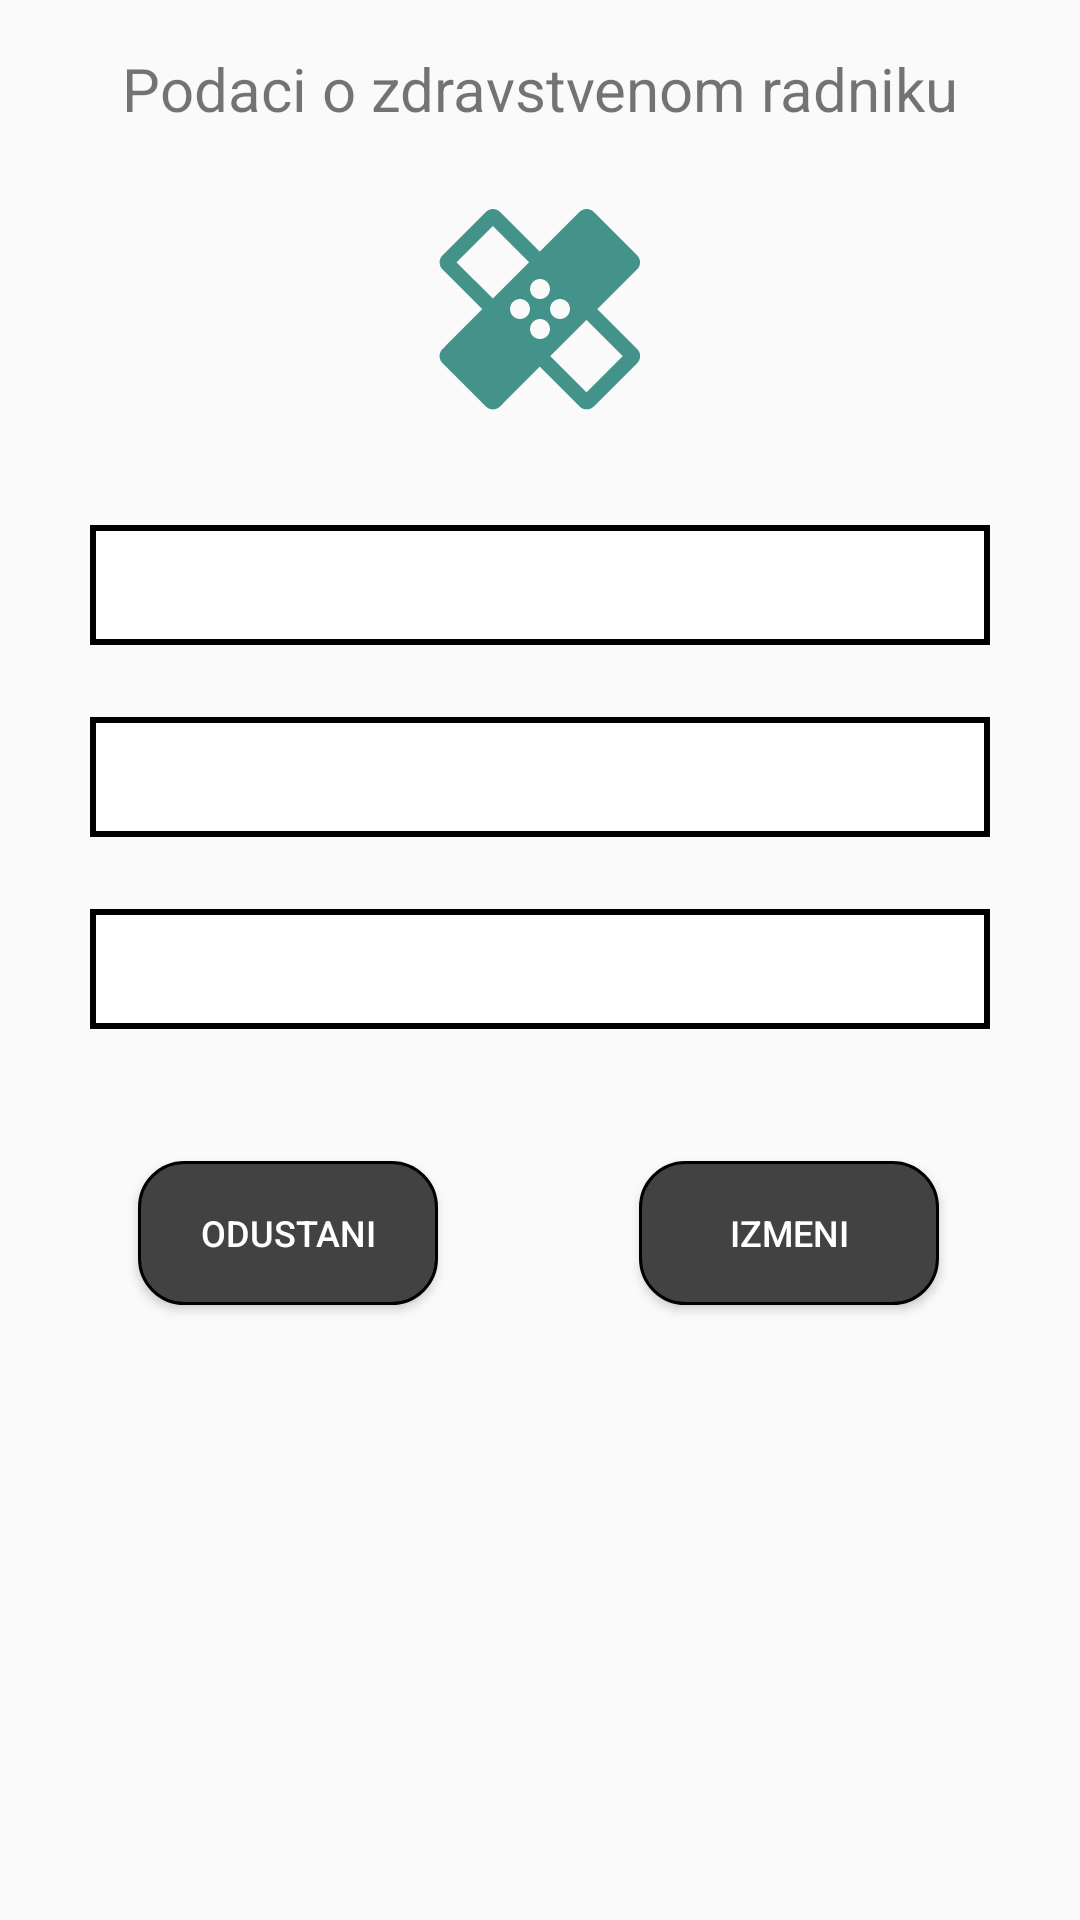

Screen size 1080x1920. Icon name, then its box in pixels as (x1, y1, x2, y2):
healing: (439, 209, 640, 410)
